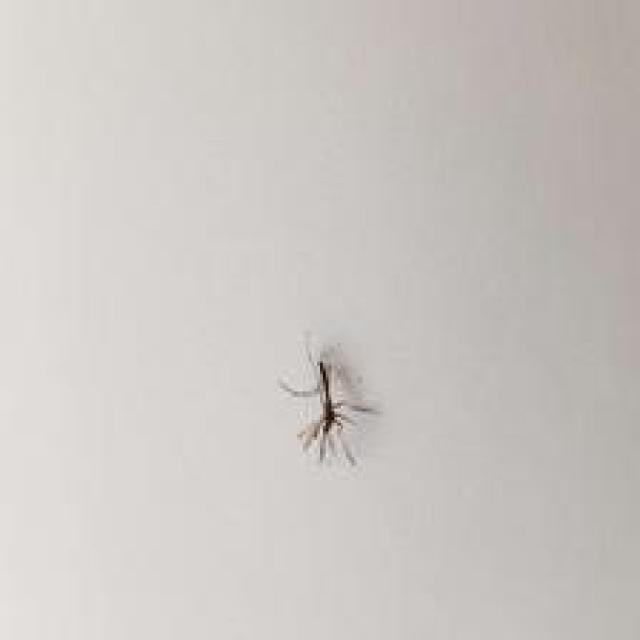Aedes albopictus: (276, 333, 378, 467)
